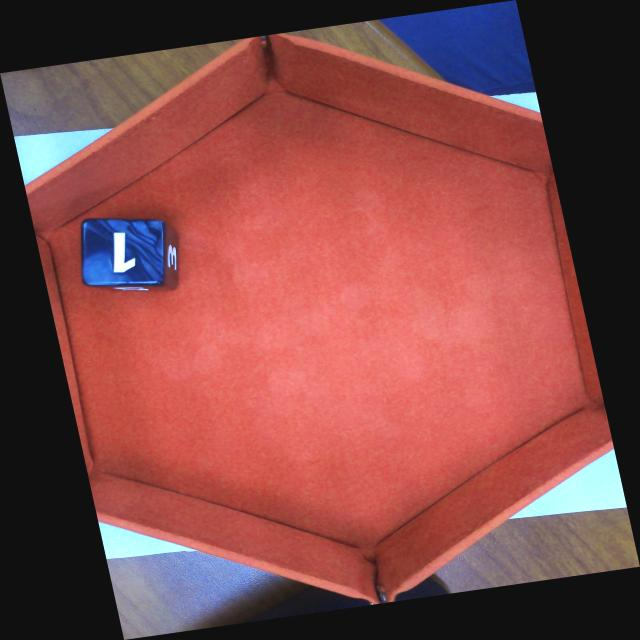dice: (83, 221, 167, 291)
